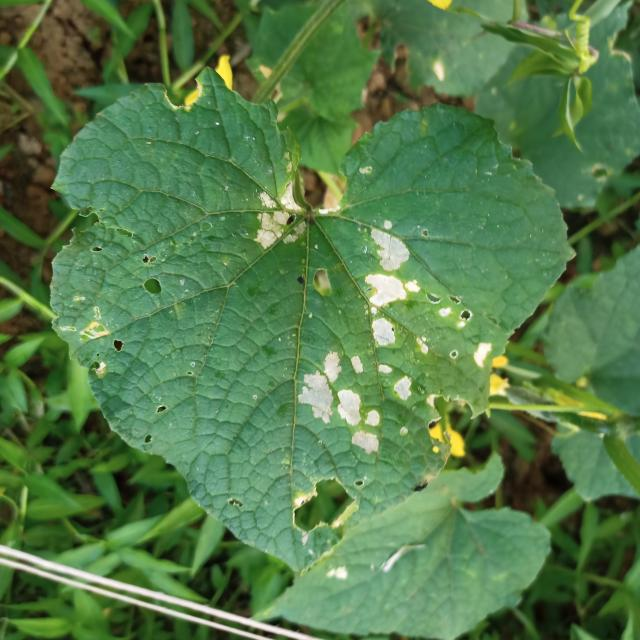disease_cucumber: (354, 218, 452, 408), (293, 348, 384, 465), (241, 171, 312, 252)
